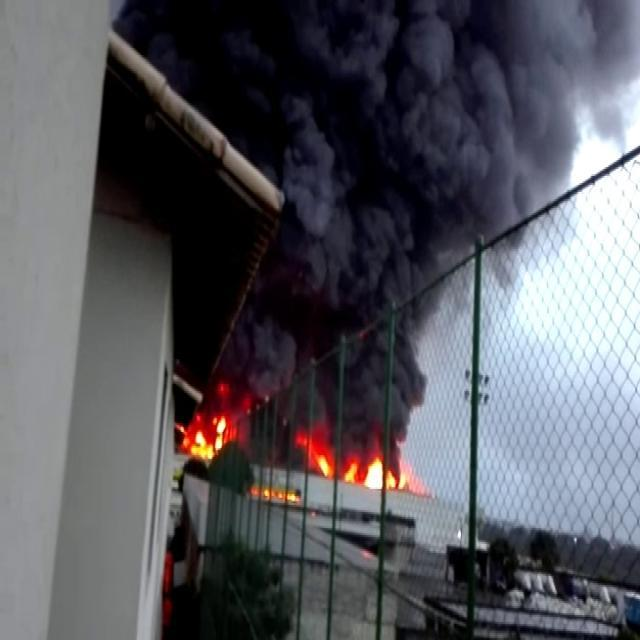Fire: (185, 404, 227, 466), (344, 446, 394, 489), (314, 448, 332, 478)
Smoke: (139, 9, 628, 448)
